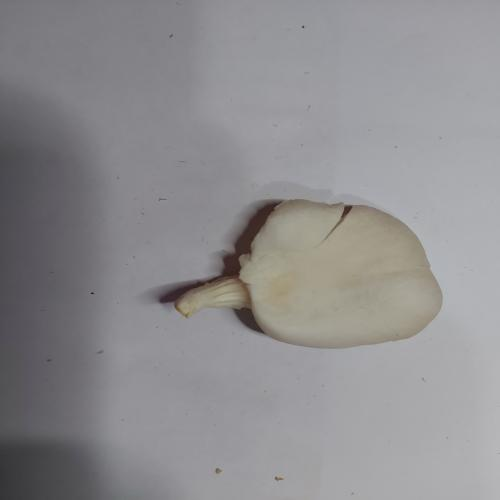Oyster Mushroom: (173, 198, 444, 350)
